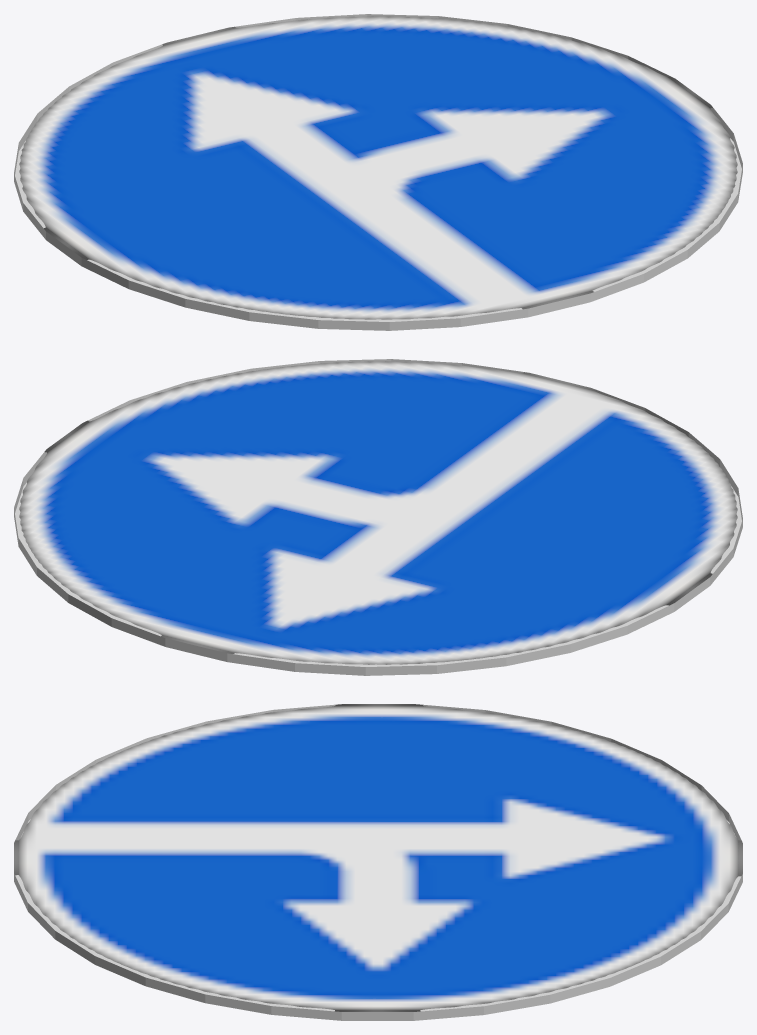
File: forward-right.dae
3 views of the same model, one above another, from view 1: azimuth 30°, elevation 25°; view 2: azimuth 150°, elevation 25°; view 3: azimuth 270°, elevation 25° (orthographic).
Visible parts, largest first — view 1: Cylinder; view 2: Cylinder; view 3: Cylinder.
Part boxes in pixels (left/top/right/bottom): Cylinder: left=14, top=14, right=742, bottom=330; Cylinder: left=14, top=359, right=742, bottom=675; Cylinder: left=14, top=704, right=742, bottom=1020.
Size of the model in its own units: 0.1493 by 0.1493 by 0.002.
Materials: 2 (1 with a texture image).
